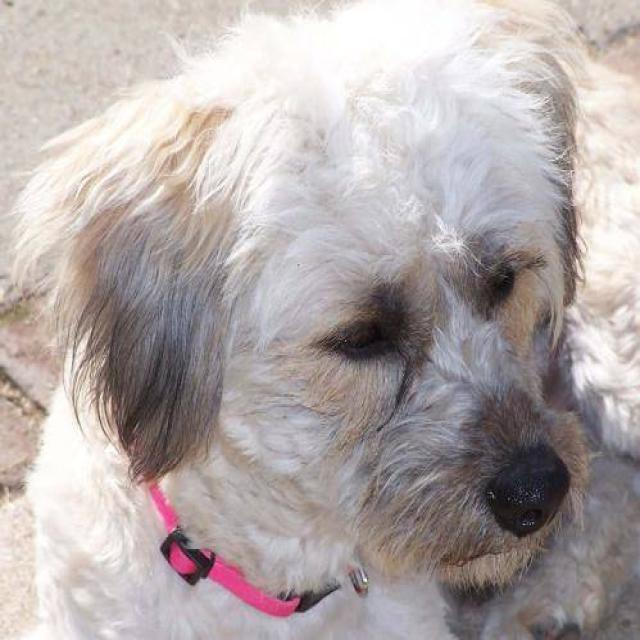dogs: (0, 25, 606, 640)
